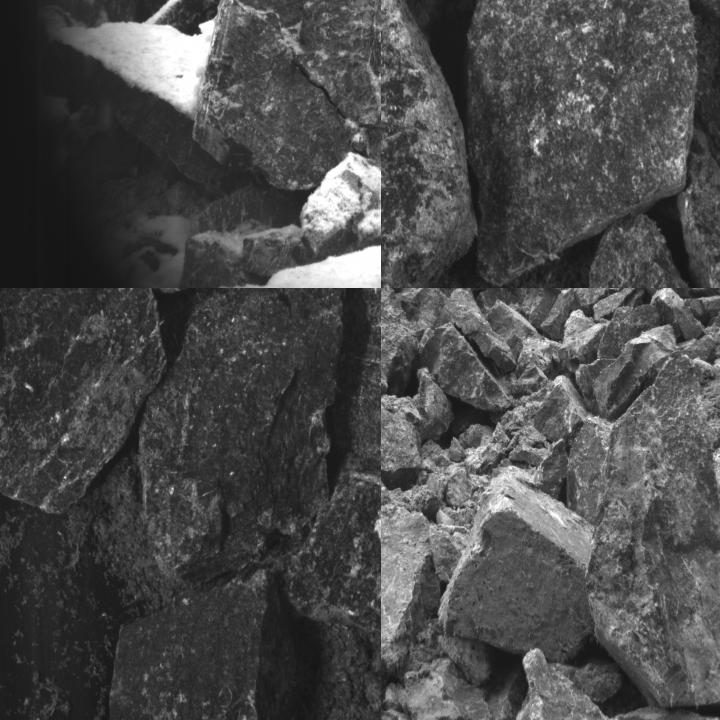stone: (461, 0, 694, 287), (134, 288, 347, 590), (569, 351, 719, 706), (0, 288, 165, 514), (192, 0, 380, 192), (437, 471, 593, 658), (109, 569, 295, 719), (381, 0, 476, 287), (287, 449, 380, 622), (560, 214, 719, 287), (381, 507, 435, 692), (511, 648, 645, 719), (589, 322, 679, 417), (415, 322, 511, 410), (298, 158, 380, 259), (381, 370, 423, 490), (534, 372, 590, 453), (600, 305, 662, 360), (525, 288, 577, 334), (616, 705, 719, 719), (573, 288, 617, 313)
